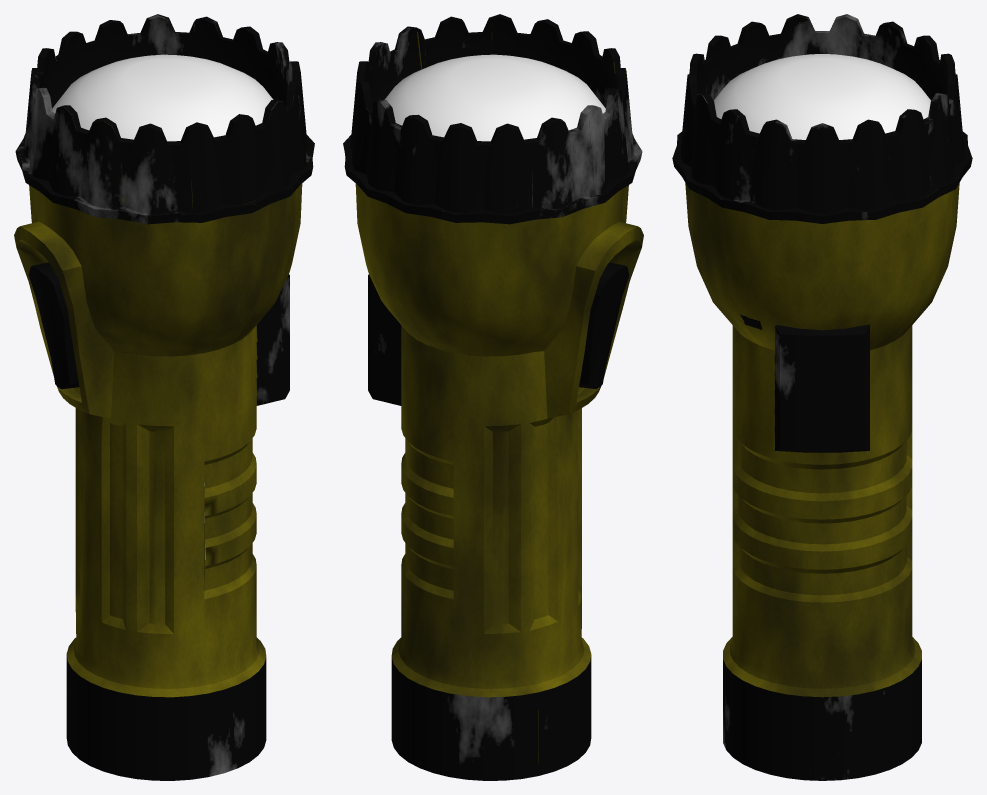
The model's file is proflashlight.fbx.
3 renders of one model, left to right at view 1: azimuth 30°, elevation 25°; view 2: azimuth 150°, elevation 25°; view 3: azimuth 270°, elevation 25°, orthographic.
Visible parts, largest first — view 1: Mesh; view 2: Mesh; view 3: Mesh.
Boxes of the visible parts, bbox=[...] form: Mesh: bbox=[14, 14, 314, 780]; Mesh: bbox=[343, 14, 643, 780]; Mesh: bbox=[672, 14, 972, 780].
Size of the model in its own units: 365 by 877 by 357.
Materials: 2 (1 with a texture image).
